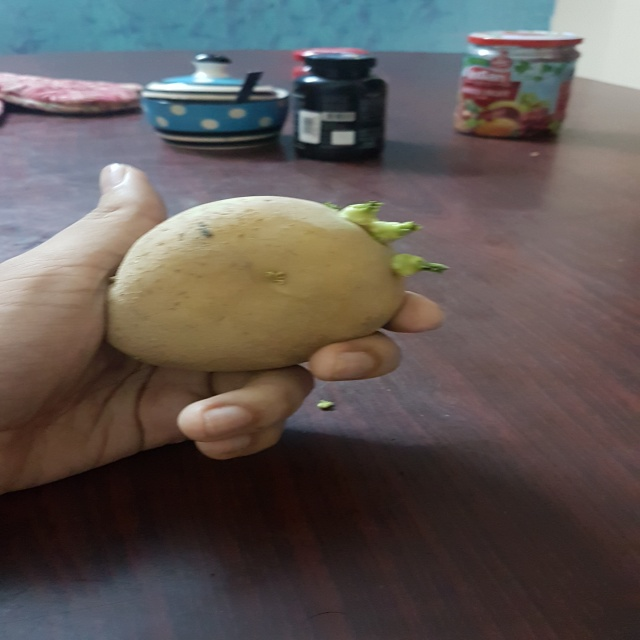potato: (97, 176, 449, 373)
